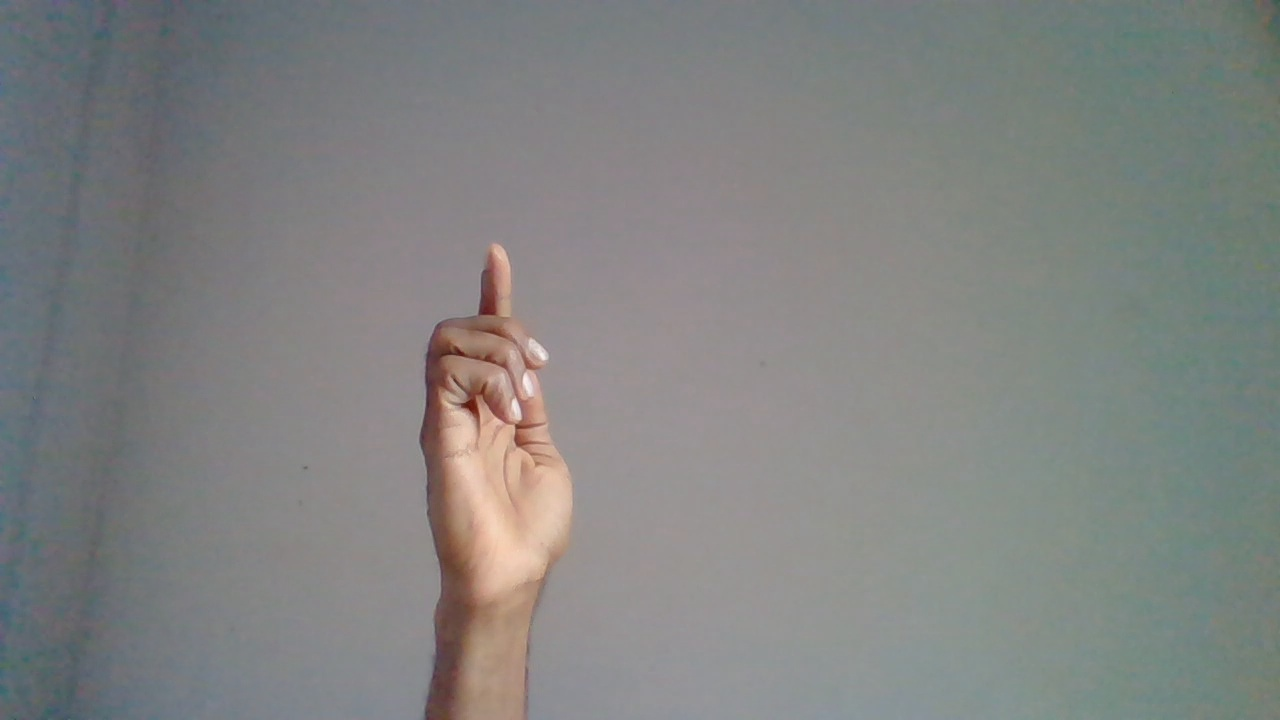qe: (411, 235, 586, 643)
